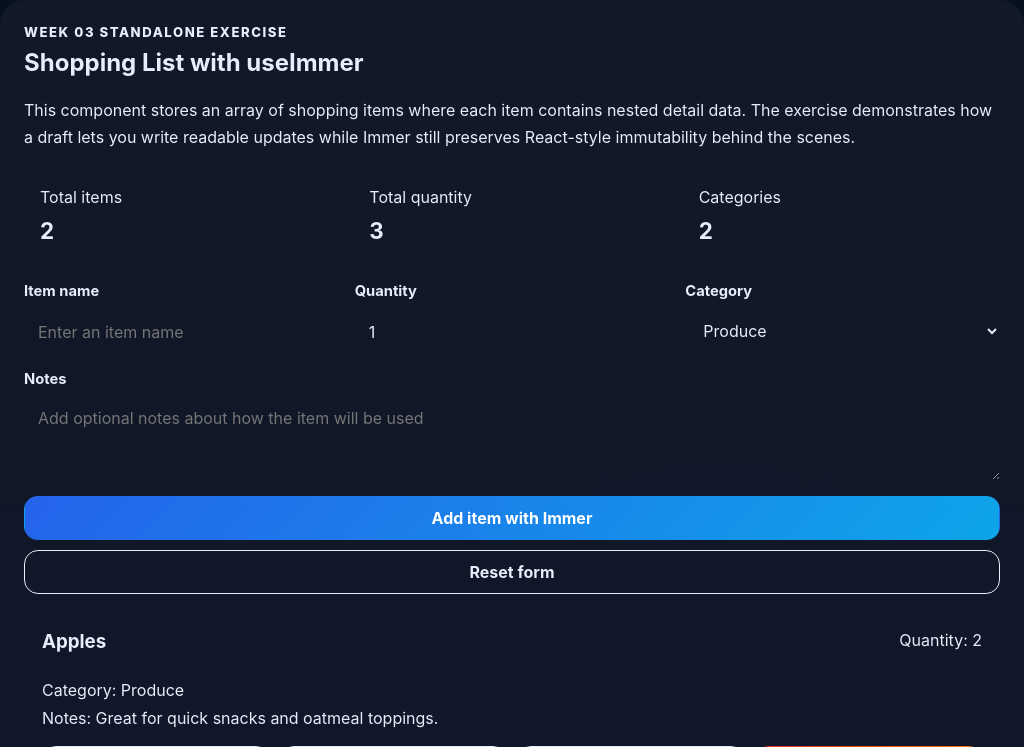
Scenario: ShoppingListWithImmer standalone exercise › normal: adds a valid item to the shopping list
The width and height of the screenshot is (1024, 747).
Type "Greek Yogurt" into the field labelled "Item name" at (181, 332), box 24,309 -> 339,354
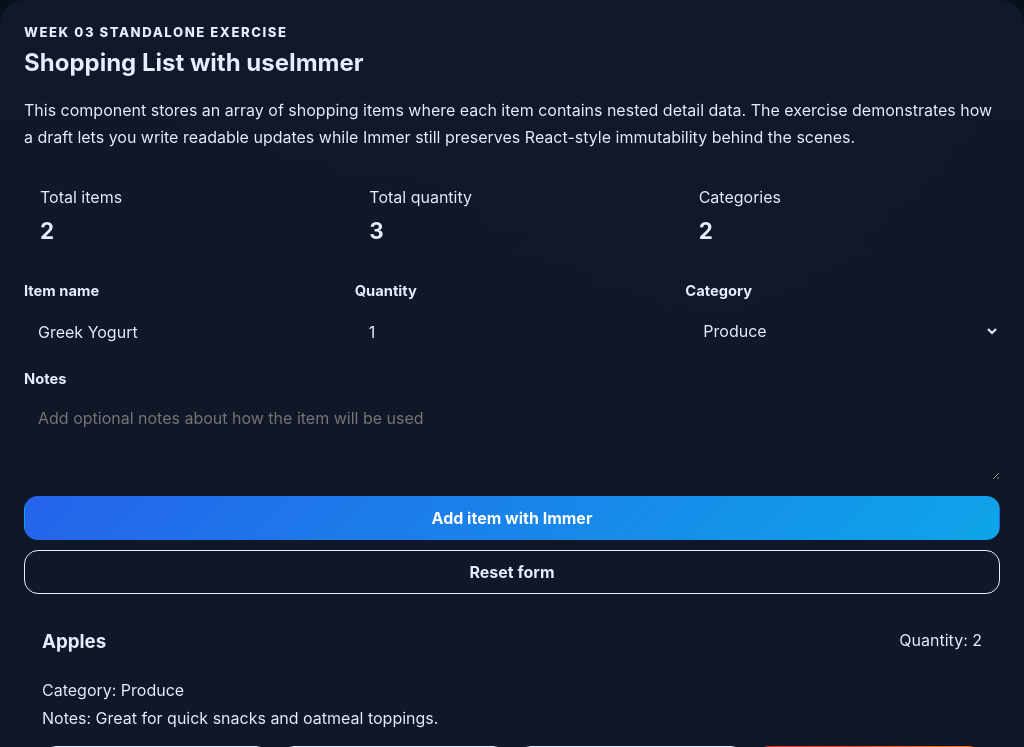
Replace the text in the number field with test id "item-quantity-input" with "3" at (512, 332), box 355,309 -> 669,354
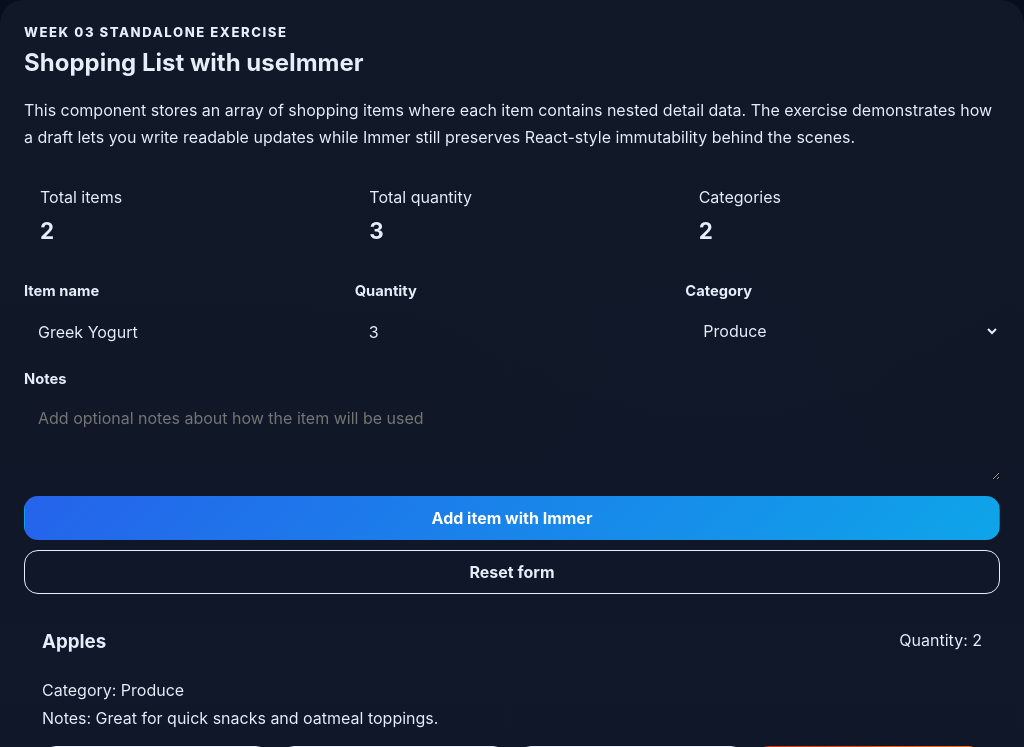
Select "Dairy" in the dropdown with test id "item-category-input" at (843, 331), box 685,308 -> 1000,354
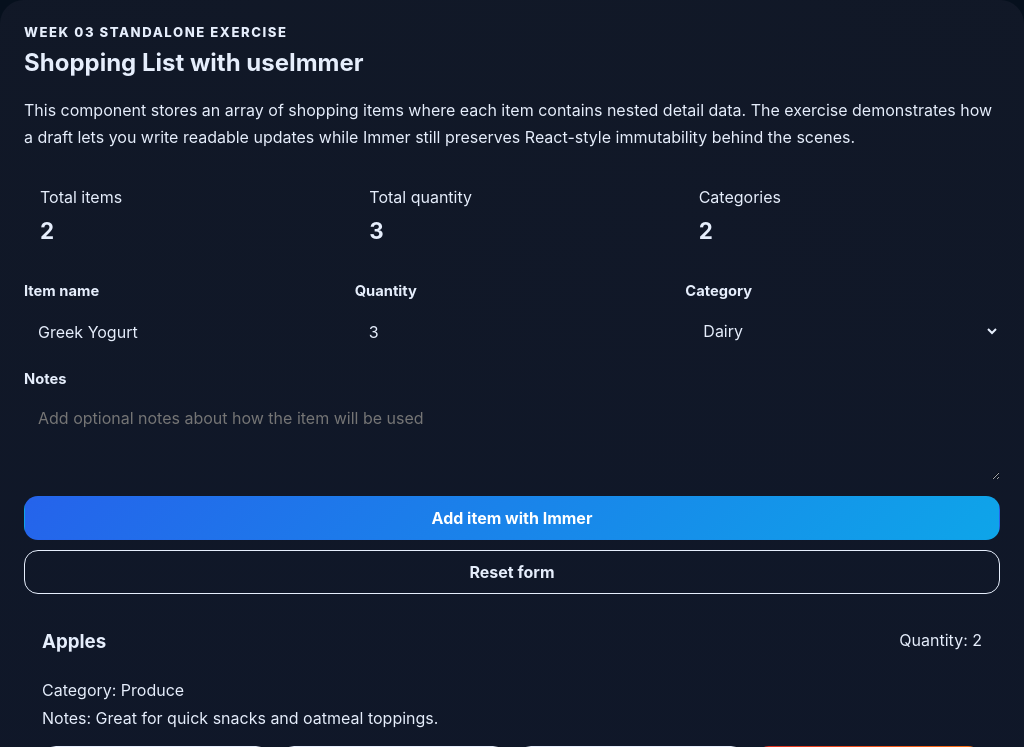
Type "Use for breakfast parfaits." into the text box with test id "item-notes-input" at (512, 438), box 24,396 -> 1000,480
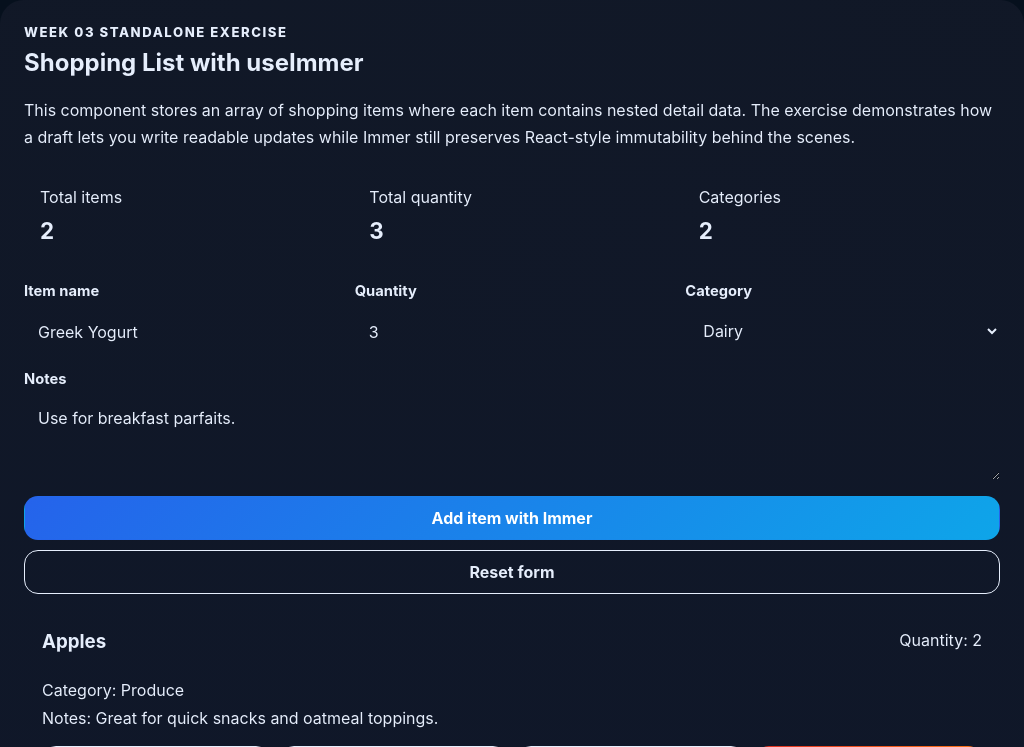
Click the button "Add item with Immer" at (512, 518), box 24,496 -> 1000,540
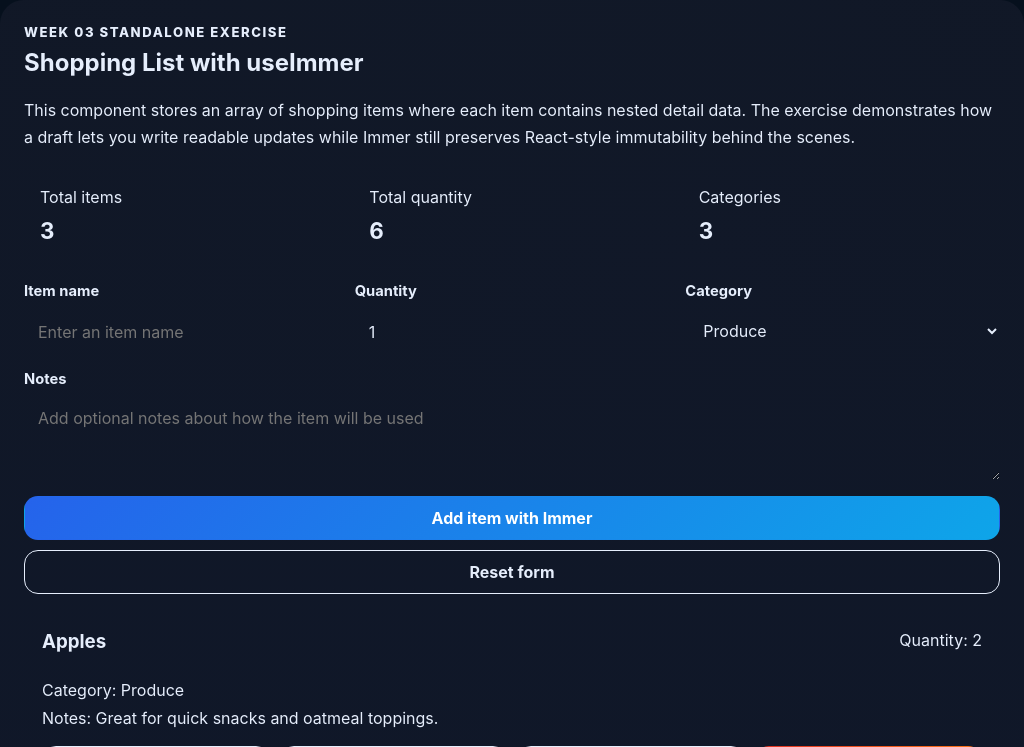
Expected: the text with test id "summary-item-count" reads "3", 40,217 -> 54,244
